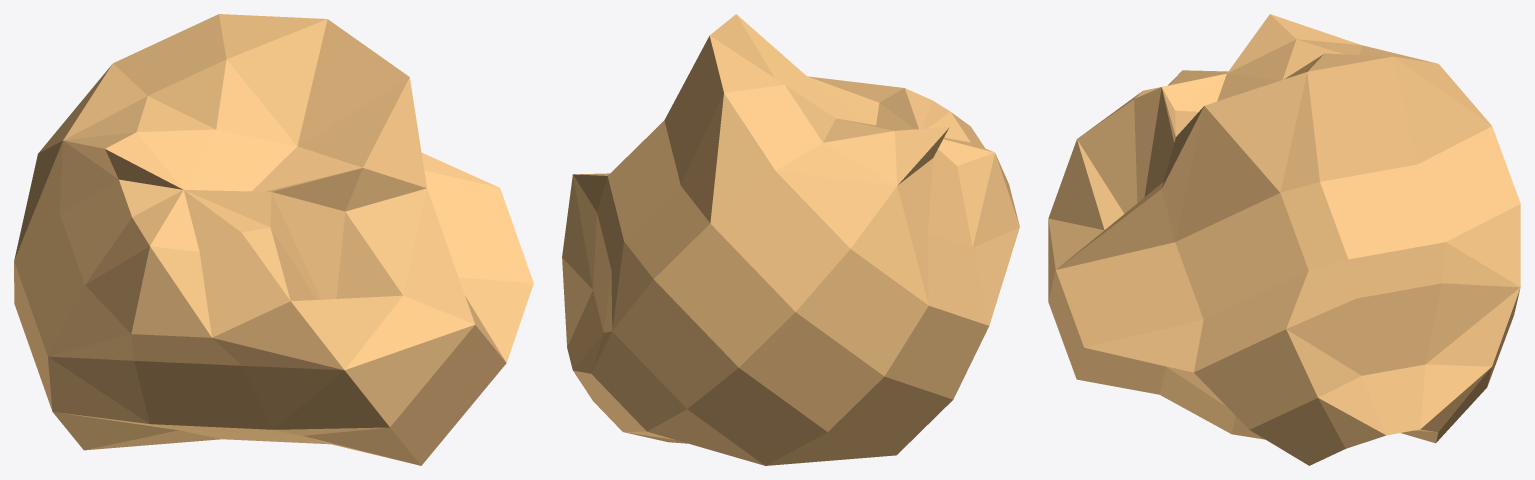
3 views of the same model, side by side, from view 1: azimuth 30°, elevation 25°; view 2: azimuth 150°, elevation 25°; view 3: azimuth 270°, elevation 25° (orthographic). The views are drawn at different scales.
Parts seen in each view (by area): view 1: mesh_1436554847; view 2: mesh_1436554847; view 3: mesh_1436554847.
Boxes of the visible parts, box(x1,y1,x2,y2) form: mesh_1436554847: box(14, 14, 533, 465); mesh_1436554847: box(562, 14, 1019, 465); mesh_1436554847: box(1048, 14, 1520, 465).
Size of the model in its own units: 36.74 by 30.34 by 35.81.
